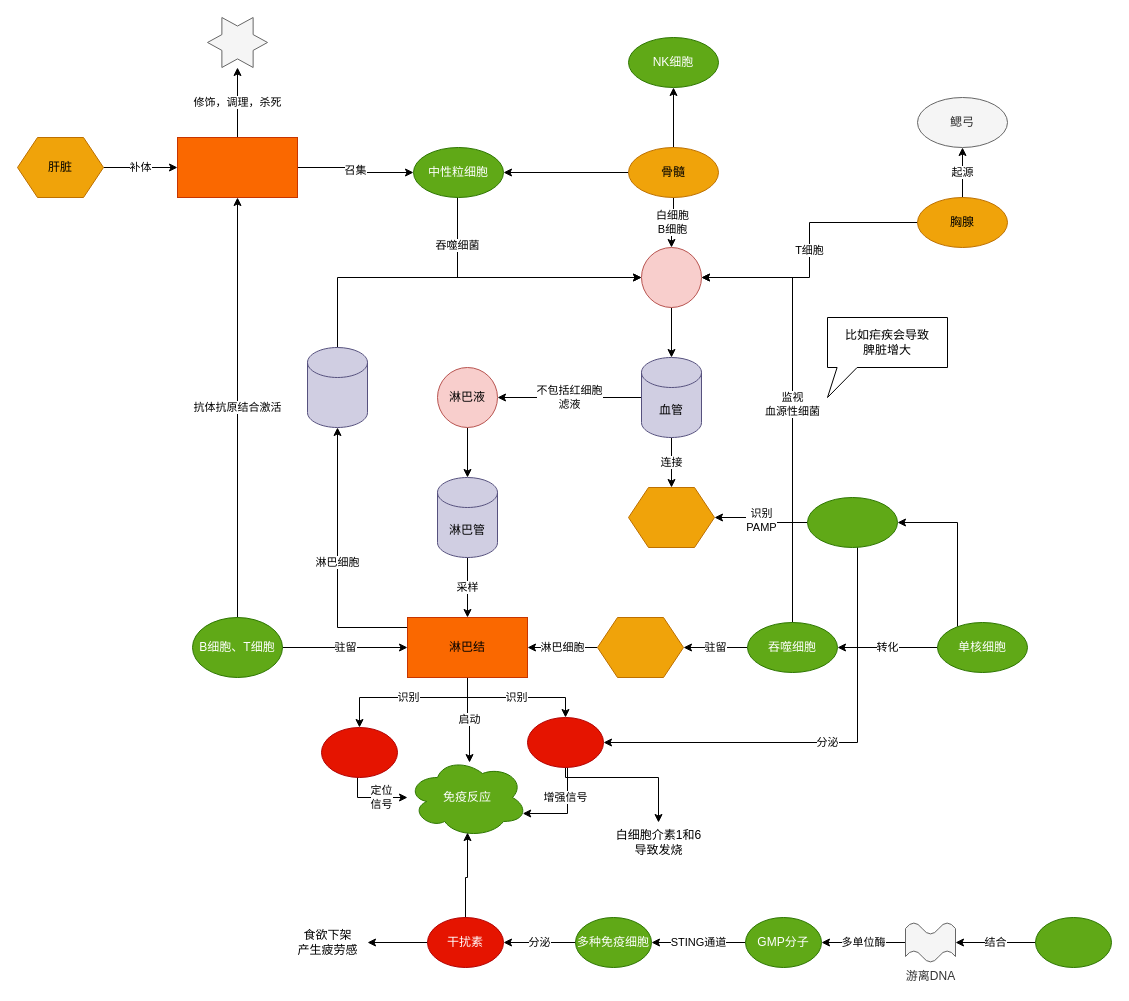
Image size: 1129x1001. Some labels were removed from this diagram. Here are the shapes that lost their labels. From the top down, the box of each, then its label:
(176, 136, 298, 198): 补体系统
(640, 246, 702, 308): 血液
(306, 346, 368, 428): 胸导管
(628, 486, 714, 548): 组织
(806, 496, 898, 548): 树突状细胞
(596, 616, 684, 678): 脾脏
(320, 726, 398, 778): 趋化因子
(526, 716, 604, 768): 细胞因子
(1034, 916, 1112, 968): CGAS 分子
